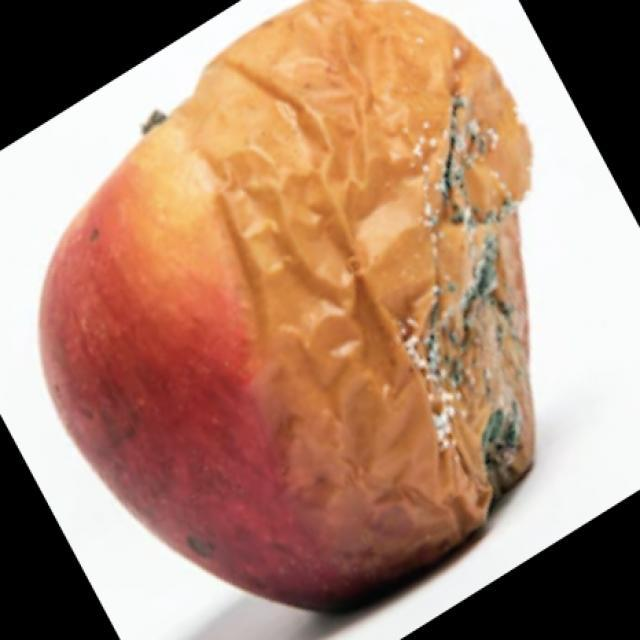Rotten: (65, 13, 540, 610)
